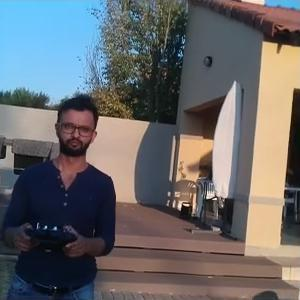follow: (0, 92, 121, 298)
